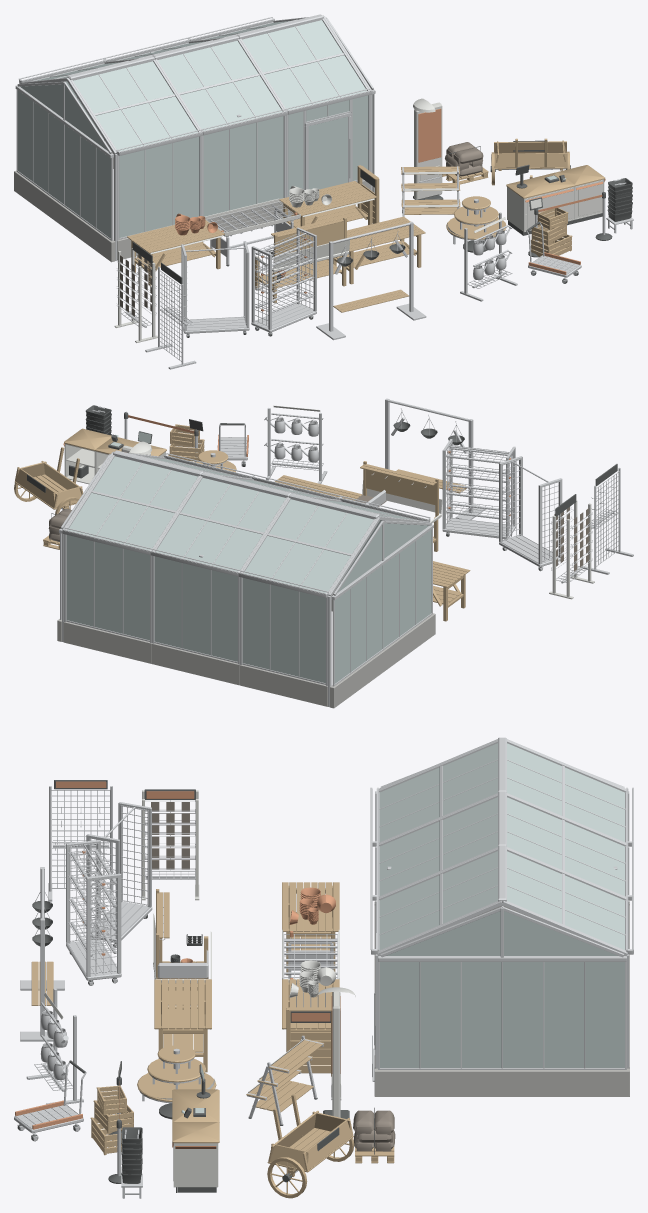
The model's file is garden-centre-and-florist-glasshouse-ret-d78238fa-starter-scene__17798.glb.
3 renders of one model, top to bottom at view 1: azimuth 30°, elevation 25°; view 2: azimuth 150°, elevation 25°; view 3: azimuth 270°, elevation 25°, orthographic. The views are drawn at different scales.
Parts seen in each view (by area): view 1: 001-glasshouse-bay-module/2, 002-glasshouse-bay-module/2, 003-glasshouse-door-module/2, 000-glasshouse-gable-end/2, 012-danish-trolley-shelved/0, 003-glasshouse-door-module/0, 001-glasshouse-bay-module/0, 002-glasshouse-bay-module/0, 003-glasshouse-door-module/glasshouse-door (×2), 000-glasshouse-gable-end/0, 006-fixed-bench-1800/0, 010-potting-bench/0 (+32 smaller); view 2: 001-glasshouse-bay-module/2, 002-glasshouse-bay-module/2, 003-glasshouse-door-module/2, 000-glasshouse-gable-end/2, 012-danish-trolley-shelved/0, 001-glasshouse-bay-module/0, 002-glasshouse-bay-module/0, 003-glasshouse-door-module/0, 000-glasshouse-gable-end/0, 013-danish-trolley-empty/0, 000-glasshouse-gable-end/1, 022-watering-can-rack/0 (+21 smaller); view 3: 004-glasshouse-gable-end/2, 001-glasshouse-bay-module/2, 003-glasshouse-door-module/2, 002-glasshouse-bay-module/2, 004-glasshouse-gable-end/1, 004-glasshouse-gable-end/0, 012-danish-trolley-shelved/0, 029-seasonal-display-cart/0, 011-fixed-bench-1800/0, 003-glasshouse-door-module/0, 001-glasshouse-bay-module/0, 002-glasshouse-bay-module/0 (+27 smaller).
Boxes of the visible parts, x1,y1,x2,y2 form: 001-glasshouse-bay-module/2: [35, 61, 199, 237]; 002-glasshouse-bay-module/2: [120, 40, 283, 216]; 003-glasshouse-door-module/2: [205, 20, 368, 196]; 000-glasshouse-gable-end/2: [17, 84, 110, 238]; 012-danish-trolley-shelved/0: [251, 227, 316, 335]; 003-glasshouse-door-module/0: [188, 14, 372, 197]; 001-glasshouse-bay-module/0: [19, 55, 203, 240]; 002-glasshouse-bay-module/0: [103, 35, 287, 216]; 003-glasshouse-door-module/glasshouse-door (×2): [304, 112, 351, 189]; 000-glasshouse-gable-end/0: [15, 78, 117, 260]; 006-fixed-bench-1800/0: [127, 220, 224, 285]; 010-potting-bench/0: [255, 216, 346, 303]; 001-glasshouse-bay-module/2: [242, 499, 412, 683]; 002-glasshouse-bay-module/2: [154, 478, 336, 661]; 003-glasshouse-door-module/2: [66, 456, 236, 640]; 000-glasshouse-gable-end/2: [334, 523, 431, 683]; 012-danish-trolley-shelved/0: [442, 439, 515, 540]; 001-glasshouse-bay-module/0: [238, 493, 430, 685]; 002-glasshouse-bay-module/0: [150, 472, 342, 664]; 003-glasshouse-door-module/0: [62, 450, 254, 642]; 000-glasshouse-gable-end/0: [328, 516, 433, 707]; 013-danish-trolley-empty/0: [499, 456, 562, 570]; 000-glasshouse-gable-end/1: [330, 613, 435, 708]; 022-watering-can-rack/0: [264, 408, 327, 483]; 004-glasshouse-gable-end/2: [380, 911, 624, 1067]; 001-glasshouse-bay-module/2: [379, 743, 624, 841]; 003-glasshouse-door-module/2: [379, 851, 624, 949]; 002-glasshouse-bay-module/2: [379, 797, 624, 895]; 004-glasshouse-gable-end/1: [374, 1068, 629, 1096]; 004-glasshouse-gable-end/0: [375, 900, 629, 1069]; 012-danish-trolley-shelved/0: [66, 840, 121, 985]; 029-seasonal-display-cart/0: [267, 1094, 354, 1198]; 011-fixed-bench-1800/0: [154, 979, 211, 1072]; 003-glasshouse-door-module/0: [370, 845, 633, 1081]; 001-glasshouse-bay-module/0: [370, 737, 633, 846]; 002-glasshouse-bay-module/0: [370, 791, 633, 900].
Bounding box in the file's own units: 11.78 × 3.36 × 9.71.
